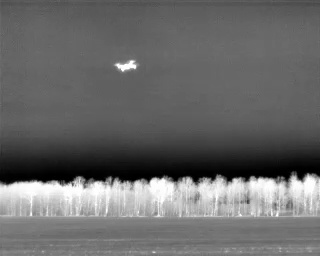DRONE: (111, 55, 143, 77)
